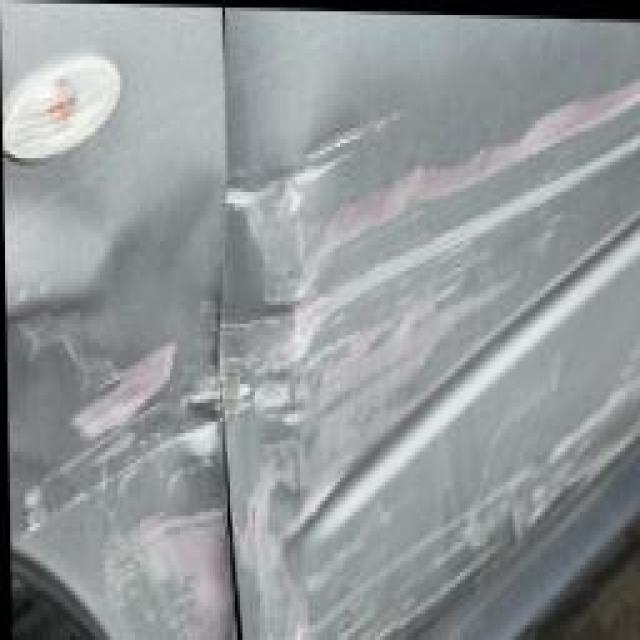Door: (228, 181, 640, 542)
Fender: (90, 290, 225, 640)
